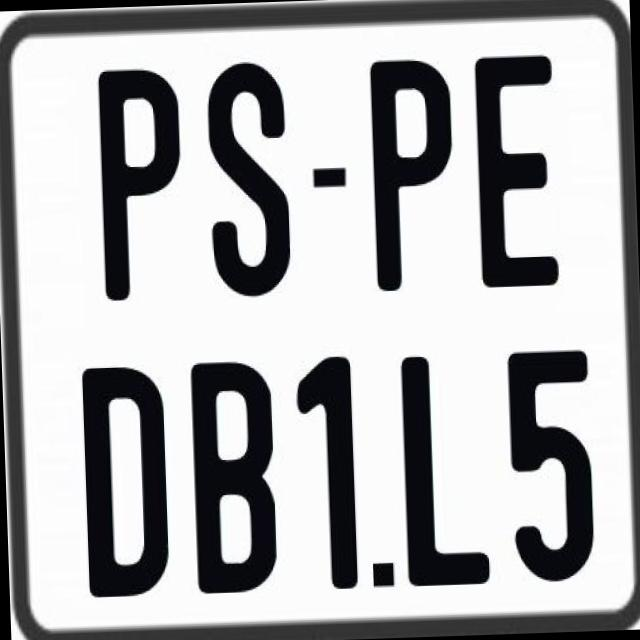1: (295, 351, 359, 595)
5: (502, 348, 598, 590)
B: (190, 355, 282, 590)
D: (78, 364, 174, 606)
E: (474, 54, 564, 288)
L: (398, 350, 496, 590)
P: (368, 53, 461, 294), (95, 64, 182, 298)
S: (204, 57, 290, 300)
